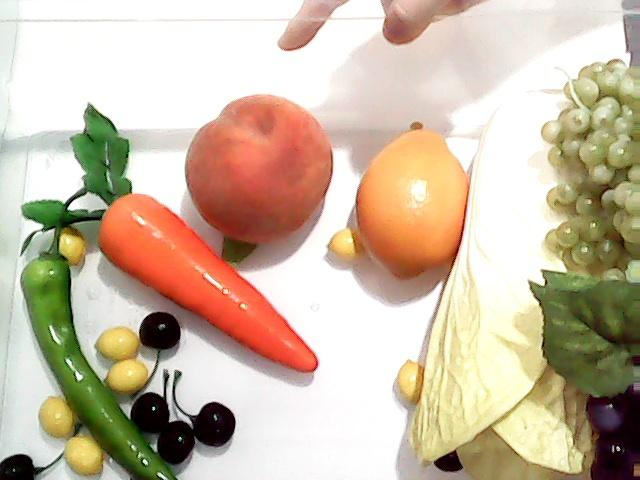carrot: (18, 99, 320, 373)
grape: (539, 57, 640, 285), (532, 268, 640, 476)
lemon: (353, 120, 473, 284)
napa cabbage: (419, 92, 637, 476)
peach: (183, 91, 333, 245)
pepper: (15, 203, 180, 480)
